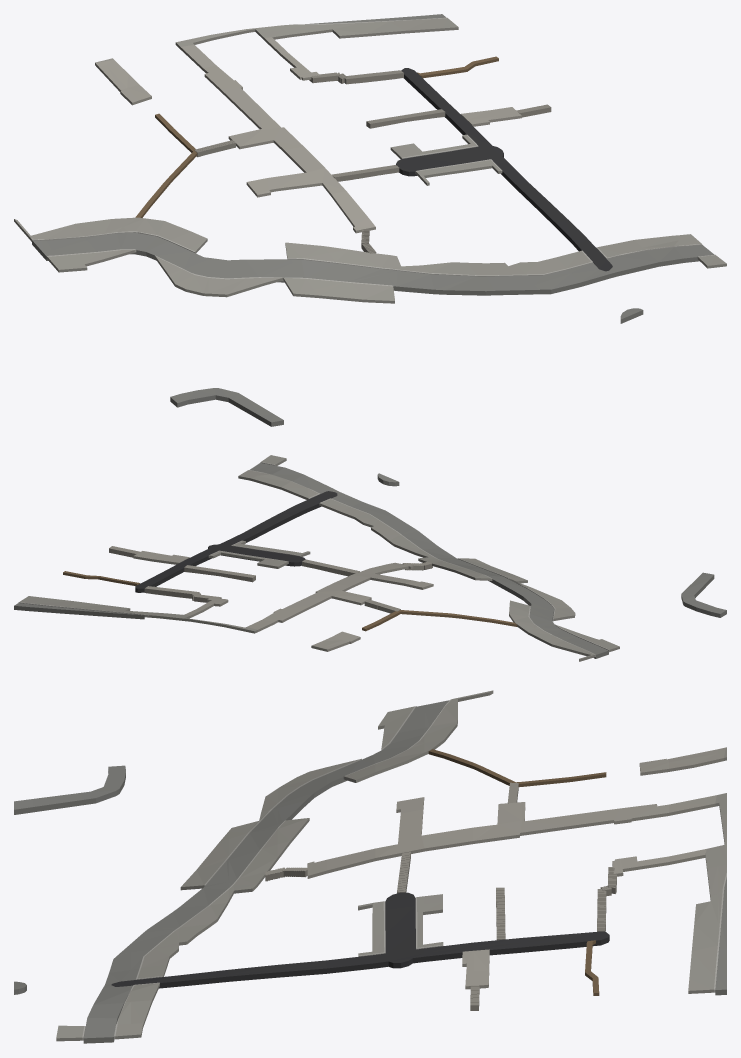
3 renders of one model, top to bottom at view 1: azimuth 30°, elevation 25°; view 2: azimuth 150°, elevation 25°; view 3: azimuth 270°, elevation 25°, orthographic. The views are drawn at different scales.
Bounding box in the file's own units: 147 × 30.21 × 146.
